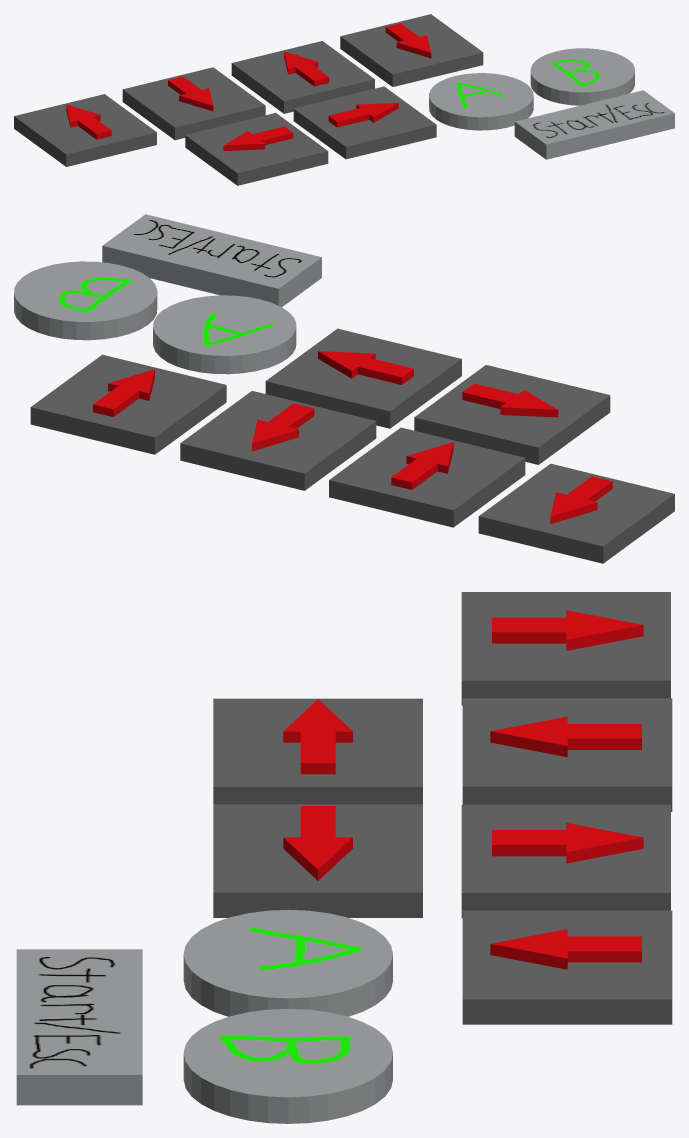
File: Kcode.fbx
3 views of the same model, one above another, from view 1: azimuth 30°, elevation 25°; view 2: azimuth 150°, elevation 25°; view 3: azimuth 270°, elevation 25° (orthographic). The views are drawn at different scales.
Parts seen in each view (by area): view 1: Arrow.005, Arrow.003, Arrow.004, Arrow, Cube, Arrow.001, Arrow.002, Cylinder, Cylinder.001; view 2: Arrow, Arrow.001, Arrow.003, Arrow.002, Arrow.004, Arrow.005, Cube, Cylinder.001, Cylinder; view 3: Arrow.003, Arrow.005, Arrow.001, Arrow, Arrow.002, Arrow.004, Cylinder.001, Cube, Cylinder.
Part boxes in pixels (x1,y1,x2,y2): Arrow.005: (293,86,436,159); Arrow.003: (340,14,483,86); Arrow.004: (185,113,328,185); Arrow: (14,94,156,166); Cube: (514,90,674,159); Arrow.001: (122,67,265,140); Arrow.002: (231,41,374,113); Cylinder: (429,73,533,130); Cylinder.001: (530,48,634,105); Arrow: (478,463,674,563); Arrow.001: (329,427,525,527); Arrow.003: (30,354,226,454); Arrow.002: (180,391,376,490); Arrow.004: (414,365,610,464); Arrow.005: (265,328,461,428); Cube: (102,214,321,306); Cylinder.001: (14,261,157,340); Cylinder: (153,295,296,374); Arrow.003: (462,910,672,1024); Arrow.005: (213,804,422,917); Arrow.001: (462,698,672,811); Arrow: (461,592,670,705); Arrow.002: (461,804,670,918); Arrow.004: (213,698,422,804); Cylinder.001: (183,1009,392,1123); Cube: (16,949,142,1105); Cylinder: (183,909,392,1016).
Bounding box in the file's own units: 1143 × 41.09 × 626.
